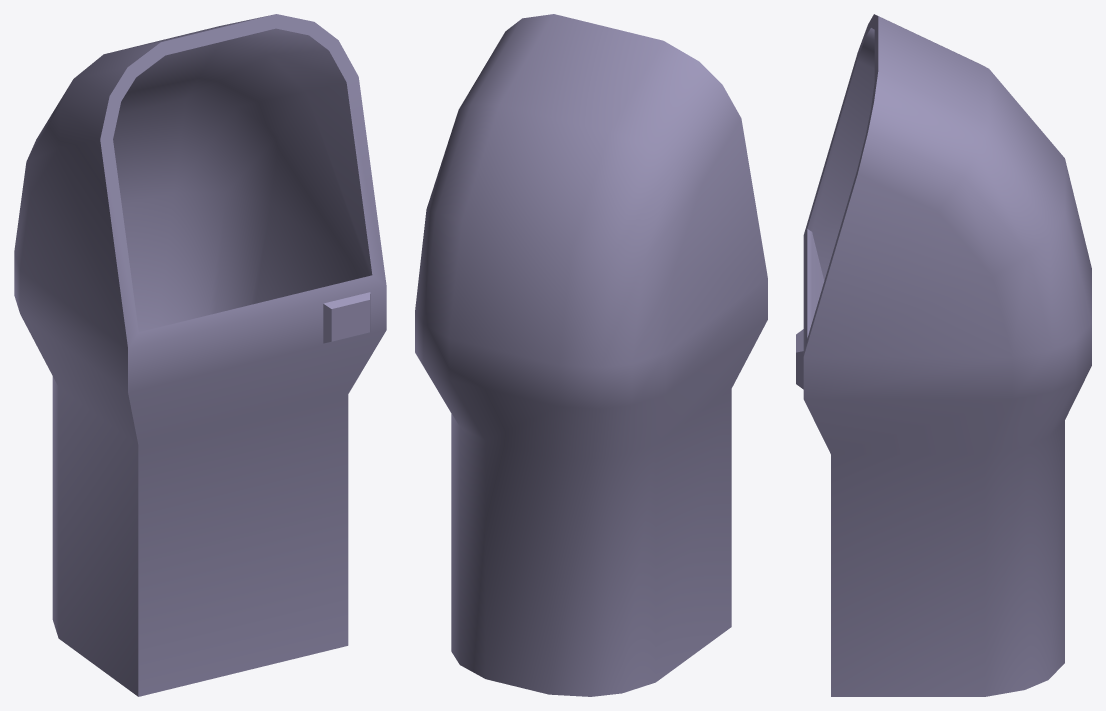
File: Bin1.FBX
3 views of the same model, side by side, from view 1: azimuth 30°, elevation 25°; view 2: azimuth 150°, elevation 25°; view 3: azimuth 270°, elevation 25° (orthographic). The views are drawn at different scales.
Visible parts, largest first — view 1: Box001; view 2: Box001; view 3: Box001.
Part boxes in pixels (box(x1,y1,x2,y2)): Box001: box(14, 14, 386, 696); Box001: box(415, 14, 767, 696); Box001: box(796, 14, 1091, 696).
Size of the model in its own units: 39.37 by 91 by 40.42.
